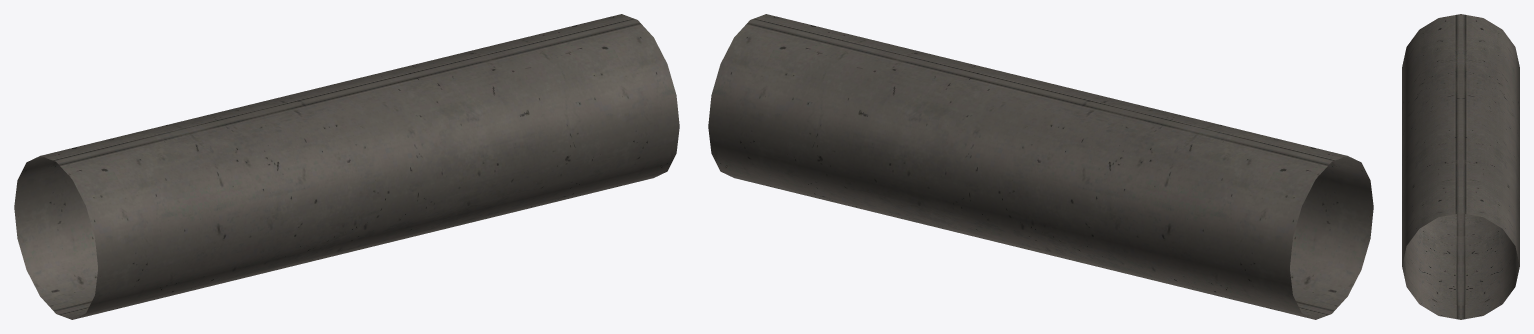
The model's file is com_pipe_4x32_white_clean_lod0.glb.
The picture shows the model from 3 angles, left to right: view 1: azimuth 30°, elevation 25°; view 2: azimuth 150°, elevation 25°; view 3: azimuth 270°, elevation 25°; orthographic projection. The views are drawn at different scales.
Visible parts, largest first — view 1: surf0; view 2: surf0; view 3: surf0.
Boxes of the visible parts, x1,y1,x2,y2 form: surf0: (14,14,679,319); surf0: (708,14,1373,319); surf0: (1402,14,1519,319).
Bounding box in the file's own units: 32 × 8 × 8.
